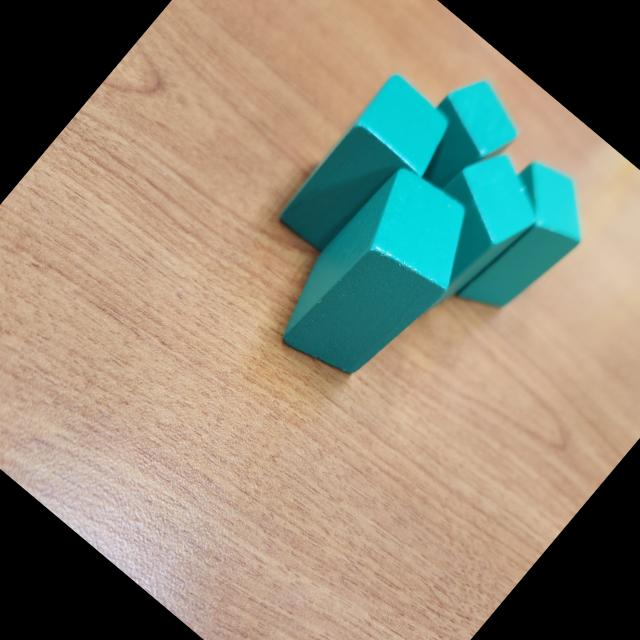green: (258, 153, 496, 403), (270, 69, 468, 278), (367, 136, 557, 337), (433, 150, 609, 335), (394, 66, 532, 208)
